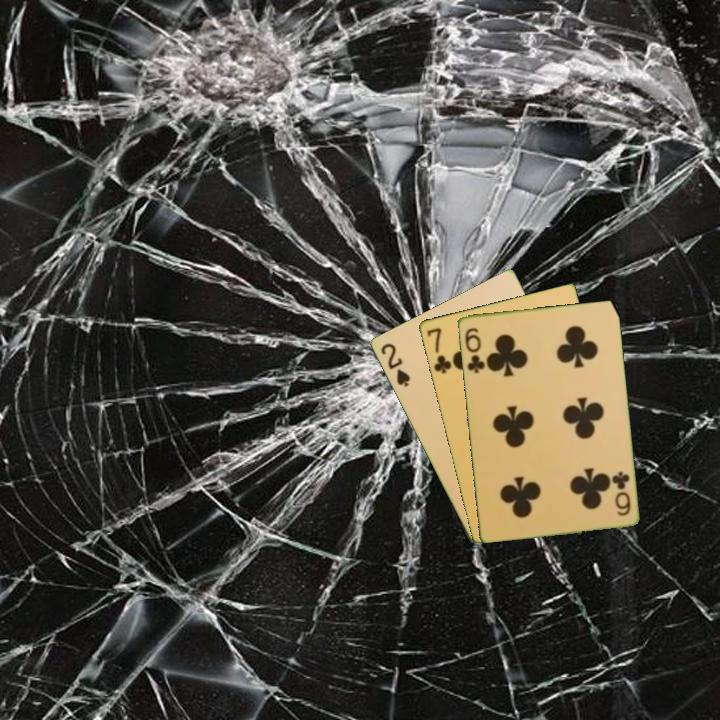2s: (377, 339, 413, 390)
6c: (461, 324, 487, 376), (609, 468, 633, 519)
7c: (423, 324, 454, 376)
